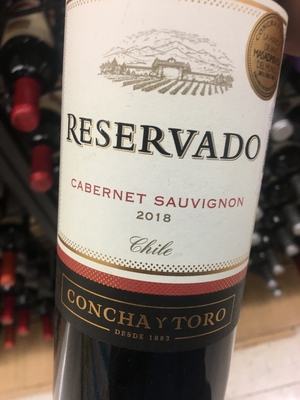reservado cabernet sauvignon: (54, 1, 289, 397)
